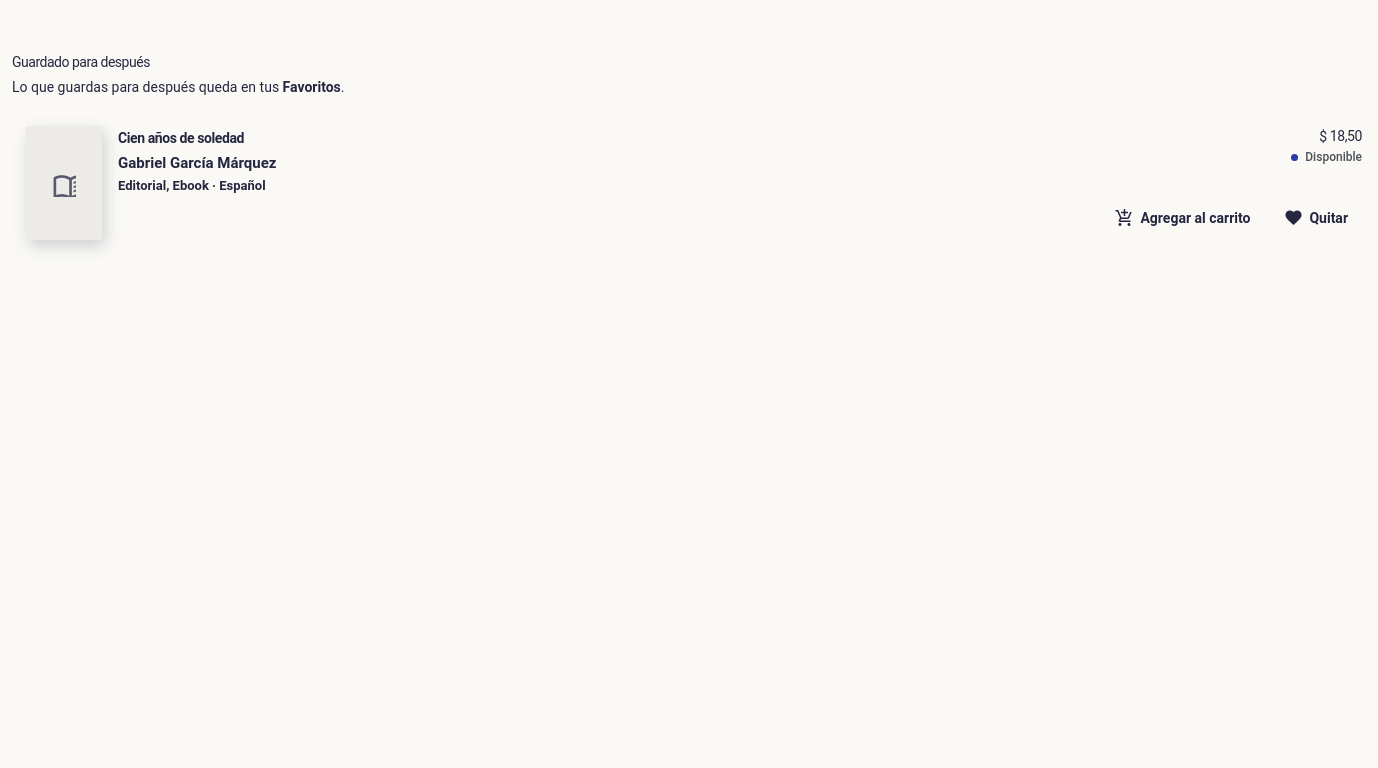
Test: a new EBOOK confirms one copy then disables another addition
The image size is (1378, 768).
Click the button with aria-label "Agregar al carrito: Cien años de soledad" at (1184, 218), box [1103, 196, 1264, 240]
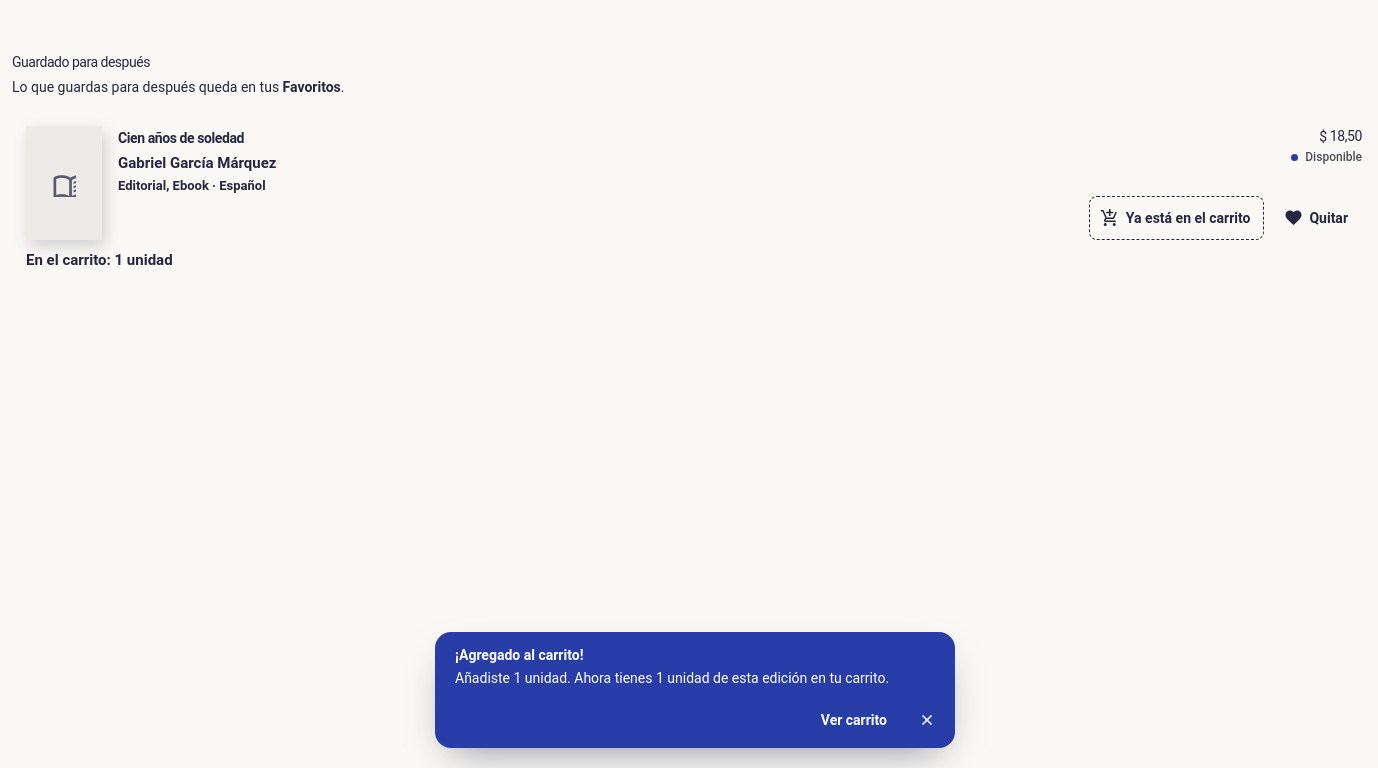
Now the text "En el carrito: 1 unidad" is shown, box [26, 251, 173, 269]
Now the text "Añadiste 1 unidad. Ahora tienes 1 unidad de esta edición en tu carrito." is shown, box [455, 669, 937, 688]
Now the button "Ya está en el carrito" is disabled, box [1089, 196, 1264, 240]
